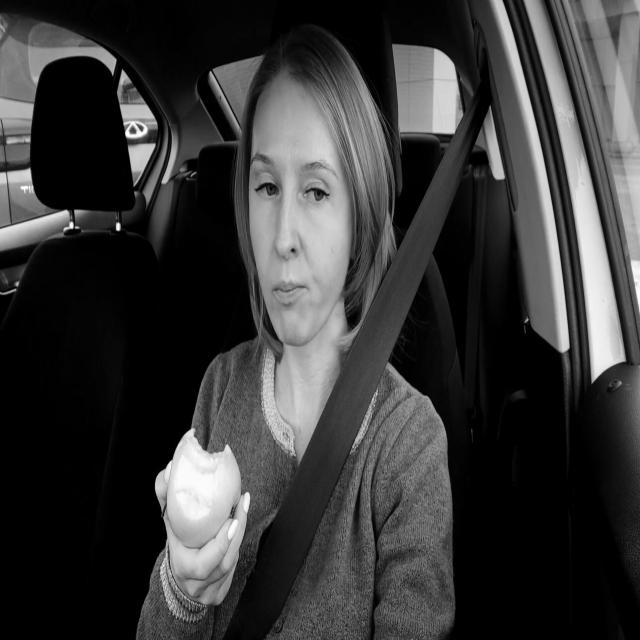Eating: (166, 422, 244, 553)
Seatbelt: (224, 72, 492, 640)
